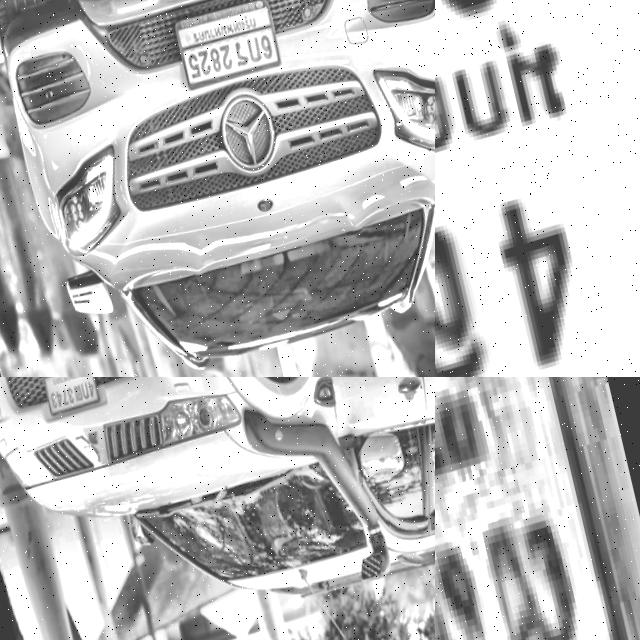license-plate: (435, 0, 640, 377), (435, 377, 640, 640), (173, 5, 282, 98), (34, 377, 109, 435)
